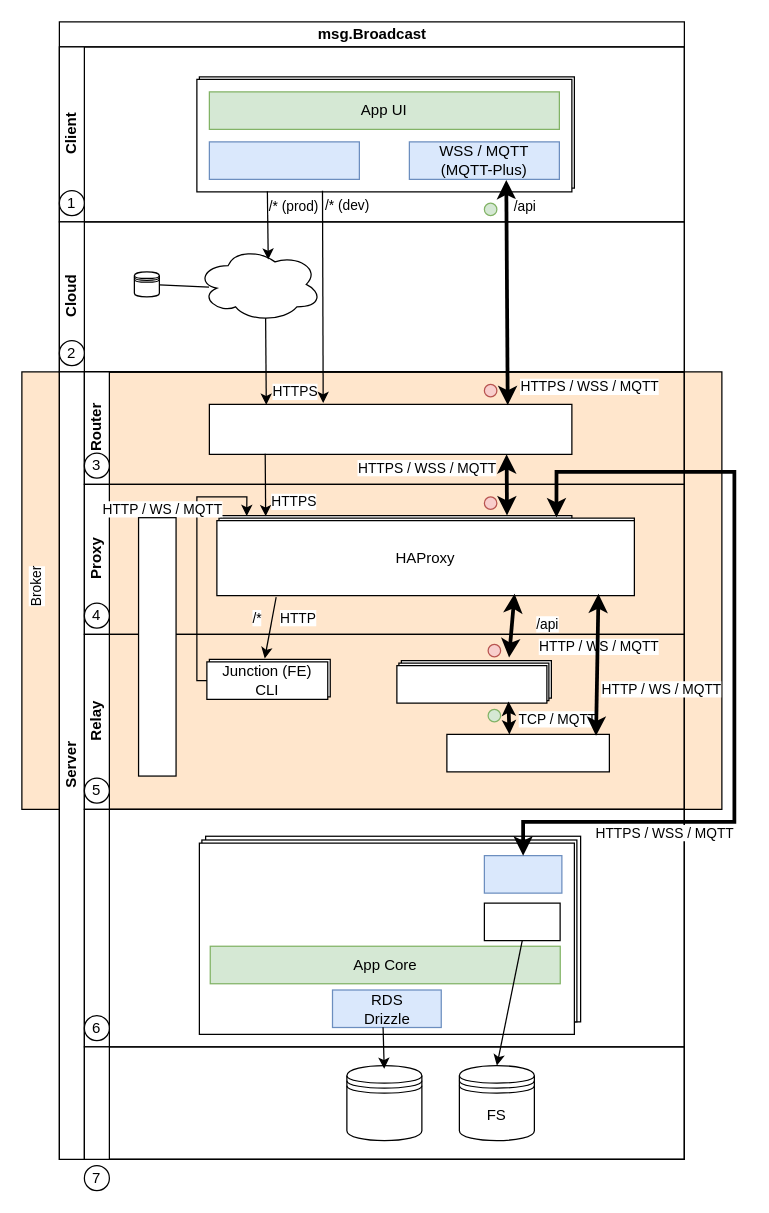
Some shapes in this 769 by 1213 pixel diagram are drawn without their labels. The box of each missing label's shape, as (x1, y1, x2, y2) in pixels:
Cloudflare: (196, 246, 322, 322)
Database: (83, 1046, 684, 1159)
HTTP / REST (Fetch): (208, 141, 359, 179)
Junction (BE) API: (483, 902, 560, 941)
Junction Orchestrator: (137, 516, 176, 776)
Load Balancer (NFTables or HAProxy) (prod): (208, 403, 572, 454)
Mosquitto (bridge + server-side/backend): (446, 733, 609, 772)
Mosquitto (client-side/frontend): (396, 664, 547, 703)
MQTT (MQTT-Plus): (483, 854, 562, 893)
PgSQL: (346, 1064, 422, 1141)
Service: (83, 808, 684, 1047)
